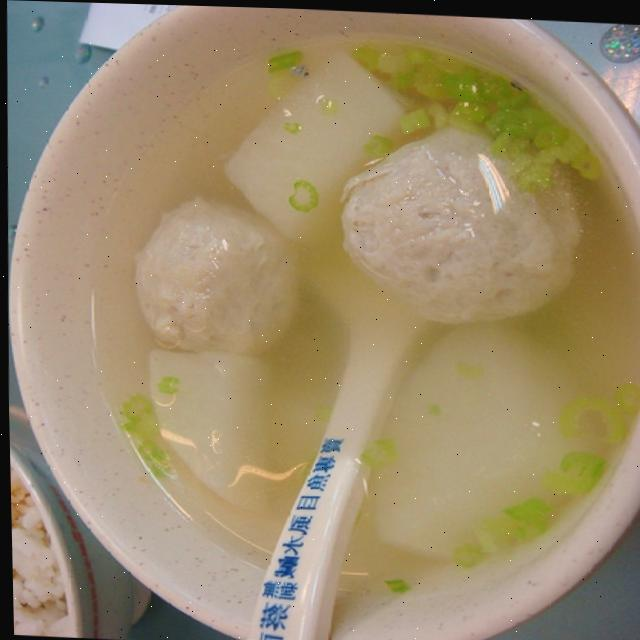熟制海鲜: (14, 0, 640, 640)
